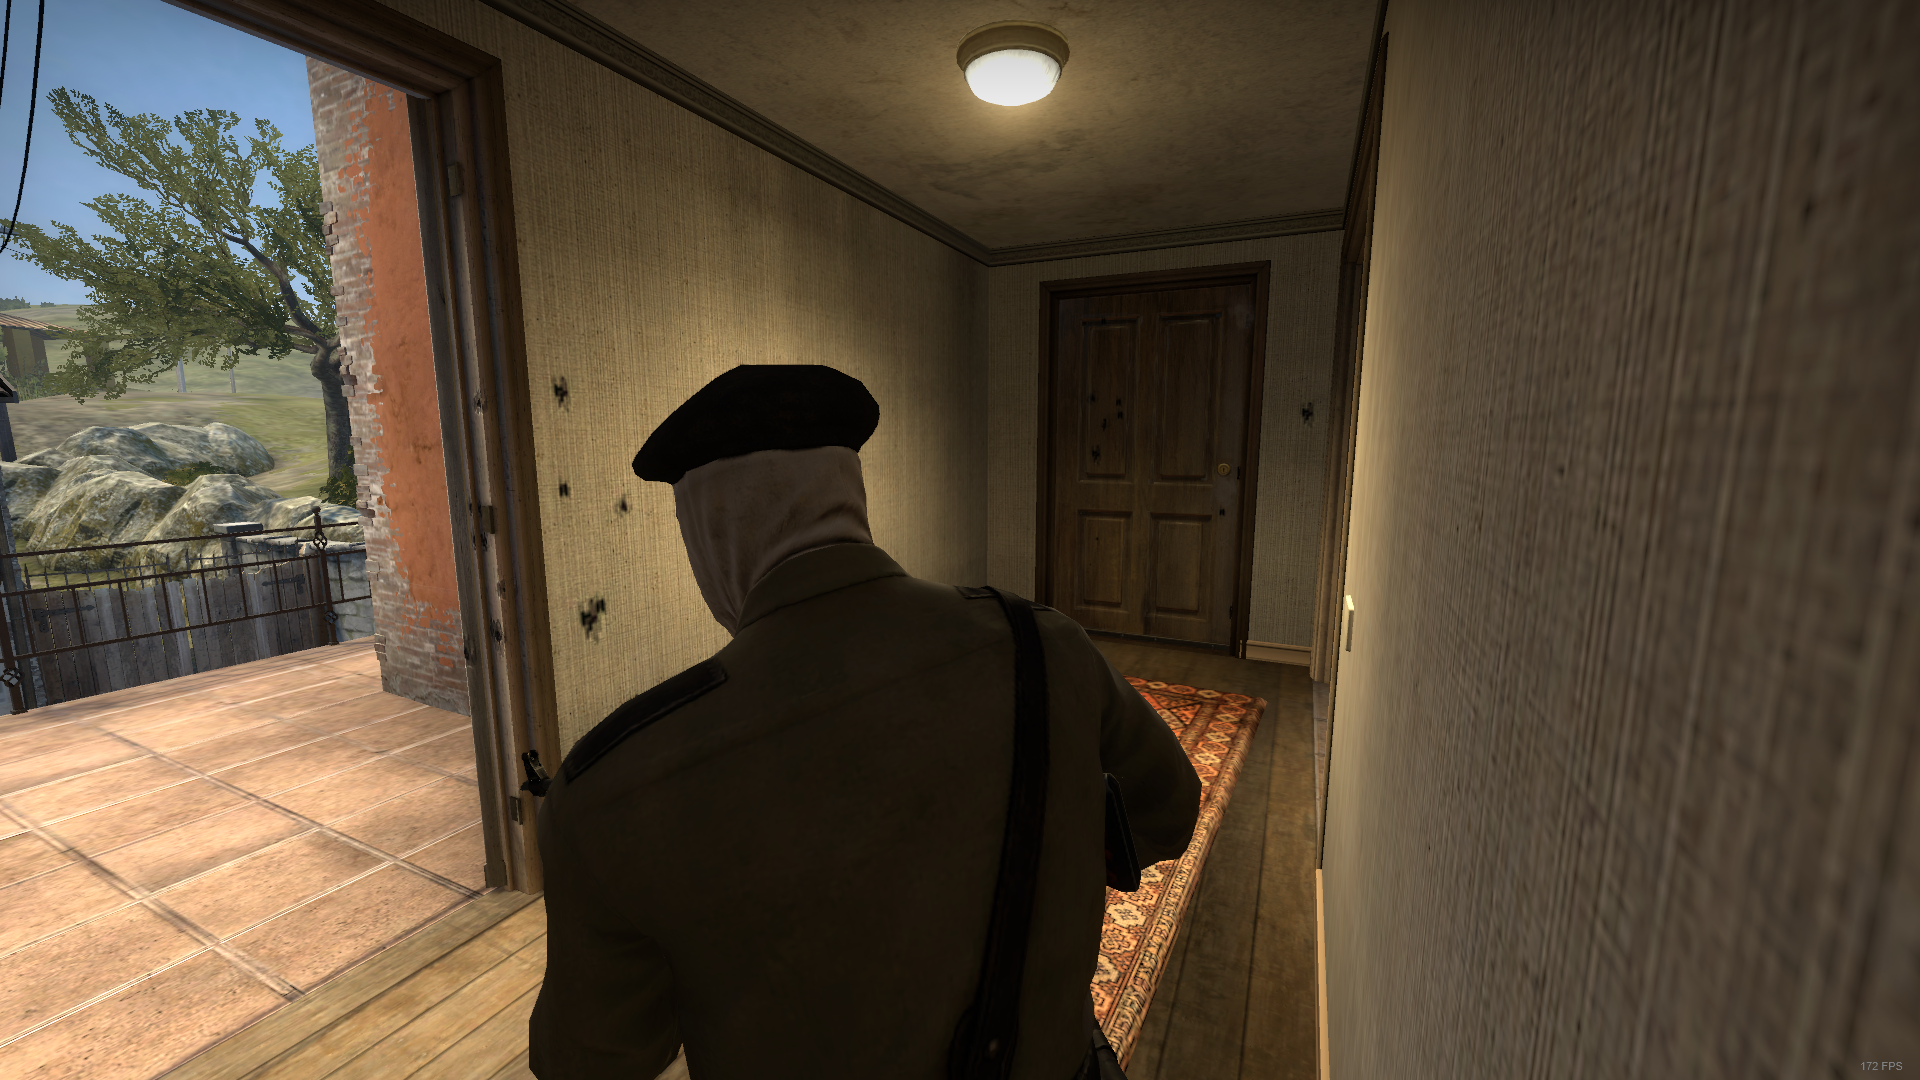t: (541, 363, 1207, 1079)
